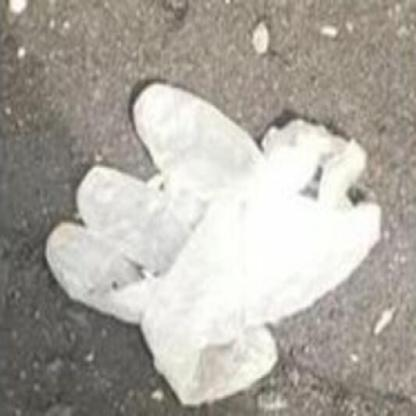with_gloves: (45, 76, 386, 415)
